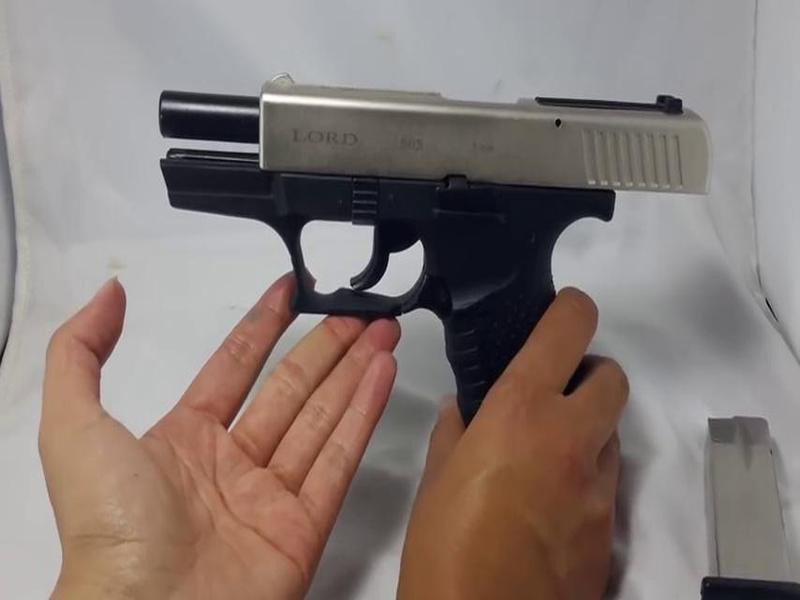Pistola: (136, 64, 731, 450)
